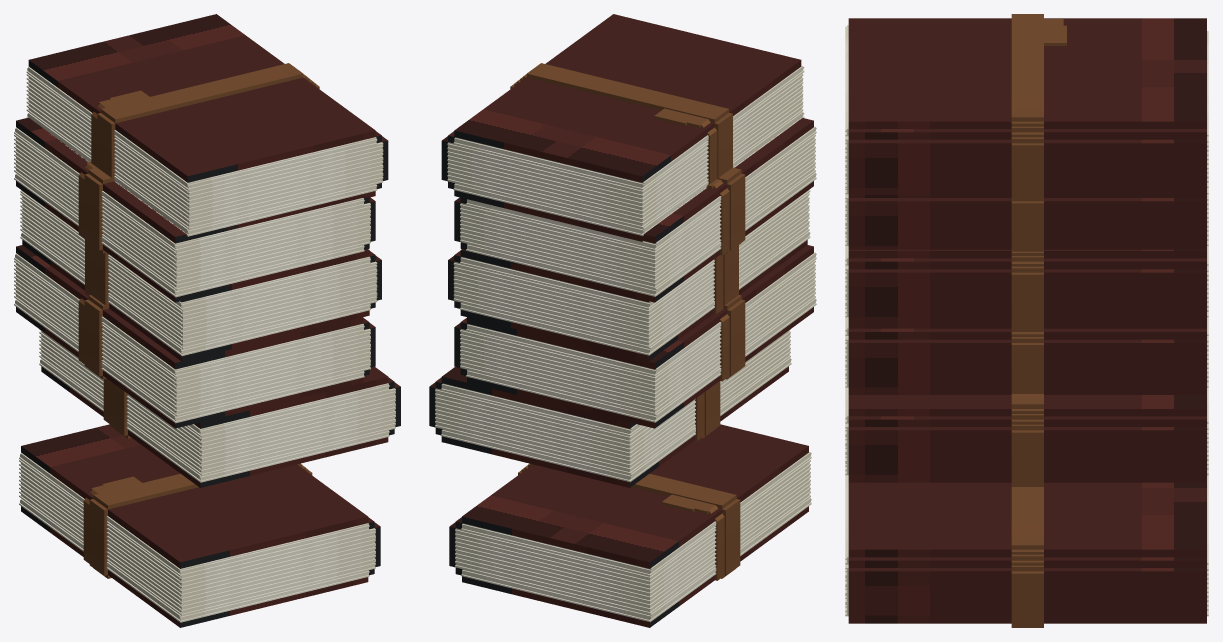
Rendered from stack_of_books_6_2.gltf.
The picture shows the model from 3 angles, left to right: view 1: azimuth 30°, elevation 25°; view 2: azimuth 150°, elevation 25°; view 3: azimuth 270°, elevation 25°; orthographic projection. The views are drawn at different scales.
Visible parts, largest first — view 1: cube (×133); view 2: cube (×177); view 3: cube (×37).
Part boxes in pixels (box(x1,y1,x2,y2)): cube (×133): box(14, 14, 395, 627); cube (×177): box(435, 14, 816, 627); cube (×37): box(848, 14, 1206, 623).
Bounding box in the file's own units: 0.5813 × 1.09 × 0.6969.
3 materials, 3 textured.
